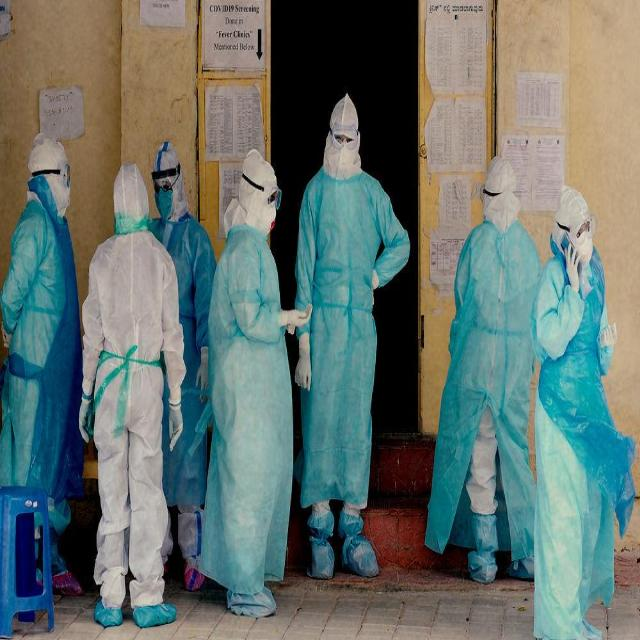Coverall: (293, 82, 423, 591), (212, 125, 319, 616), (458, 113, 558, 633), (534, 155, 639, 636), (2, 115, 104, 585), (133, 106, 222, 601), (92, 144, 181, 637)
Gloves: (266, 307, 329, 395), (153, 398, 207, 457), (79, 384, 108, 474)
Goggles: (241, 151, 293, 213), (15, 150, 85, 193), (141, 140, 187, 193), (531, 206, 602, 239), (308, 122, 372, 152), (460, 176, 510, 199)
Mask: (326, 132, 372, 187), (564, 225, 599, 260)
